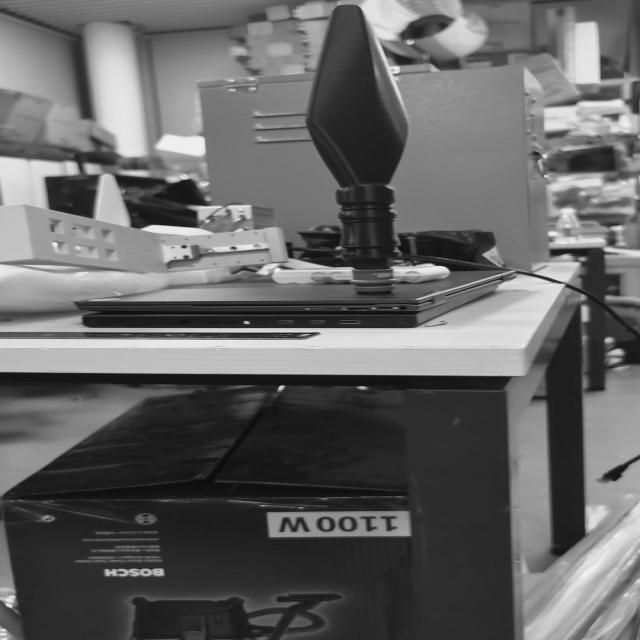base: (352, 270, 396, 294)
